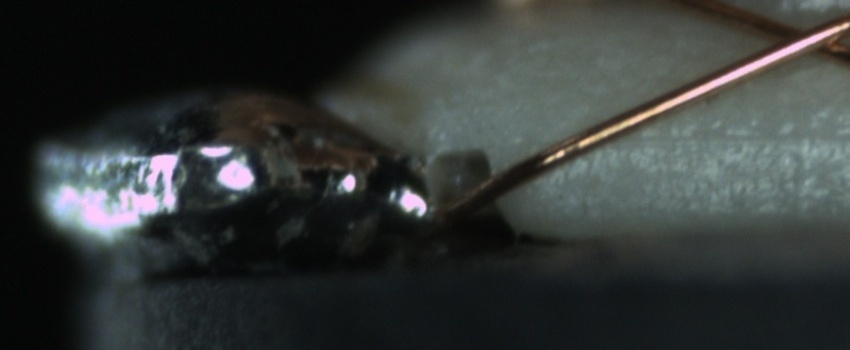CL: (749, 8, 847, 66)
DL: (627, 107, 849, 166)
